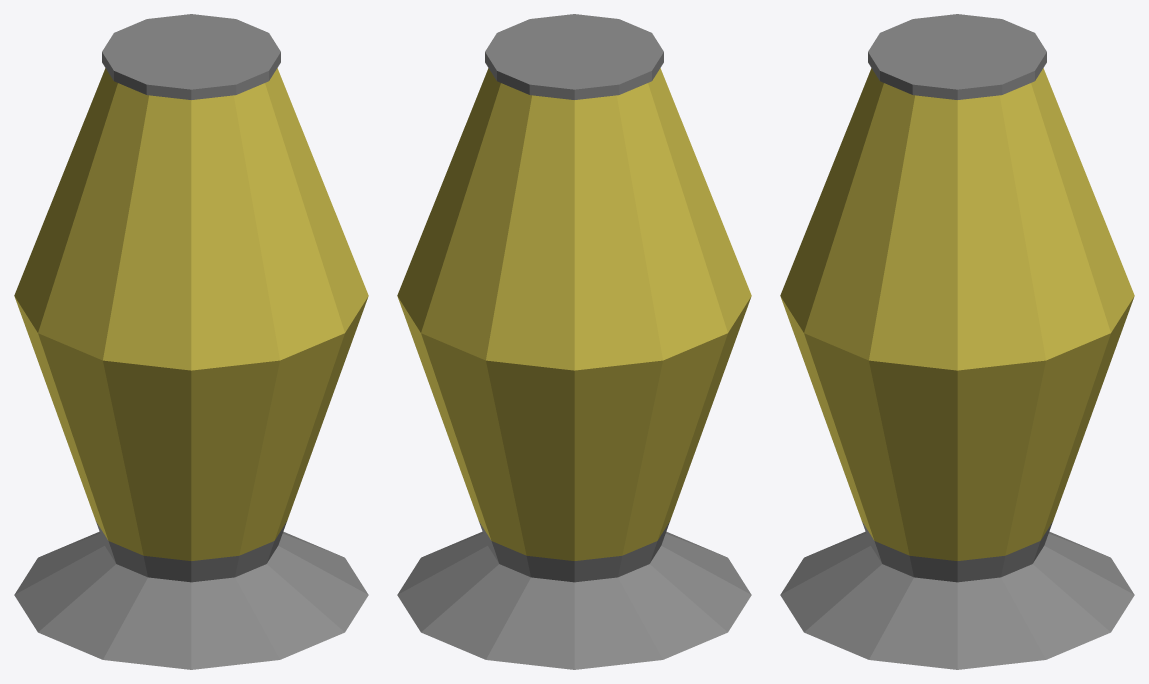
The model's file is lampka.fbx.
The picture shows the model from 3 angles, left to right: view 1: azimuth 30°, elevation 25°; view 2: azimuth 150°, elevation 25°; view 3: azimuth 270°, elevation 25°; orthographic projection.
Visible parts, largest first — view 1: lampka; view 2: lampka; view 3: lampka.
Part boxes in pixels (x1,y1,x2,y2): lampka: (14, 14, 368, 669); lampka: (397, 14, 751, 669); lampka: (780, 14, 1134, 669).
Size of the model in its own units: 8.45 by 8.45 by 14.29.
